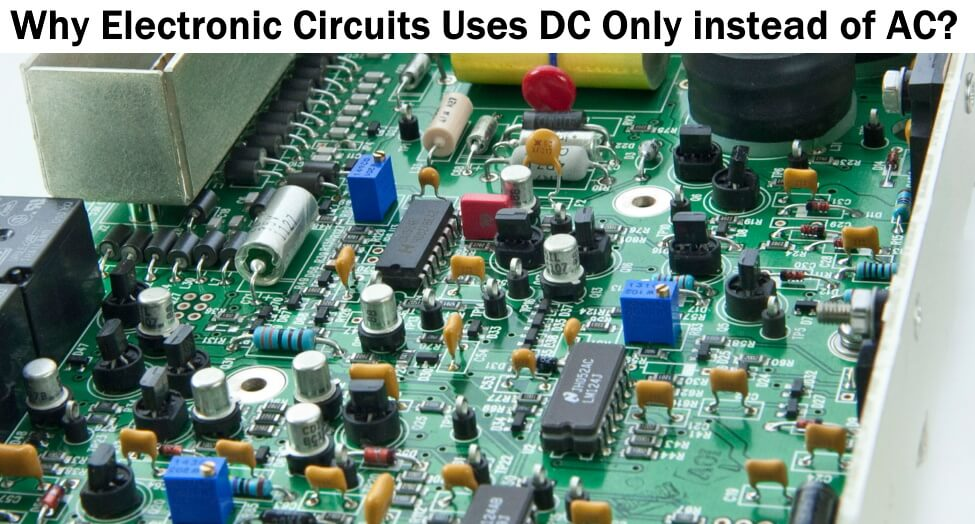capacitor: (325, 237, 367, 289), (117, 414, 159, 466), (777, 159, 819, 211), (520, 117, 562, 169), (503, 334, 545, 386), (438, 447, 480, 499), (433, 313, 475, 365), (453, 247, 495, 299)
